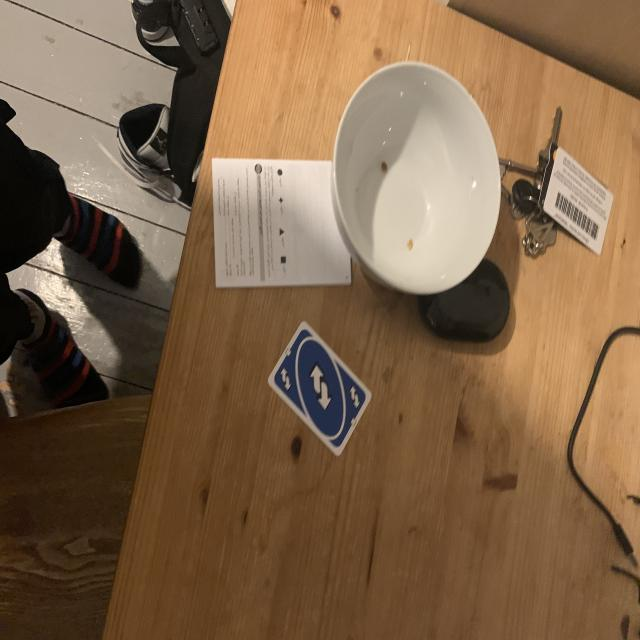lbluerevers-20: (276, 365, 294, 392)
